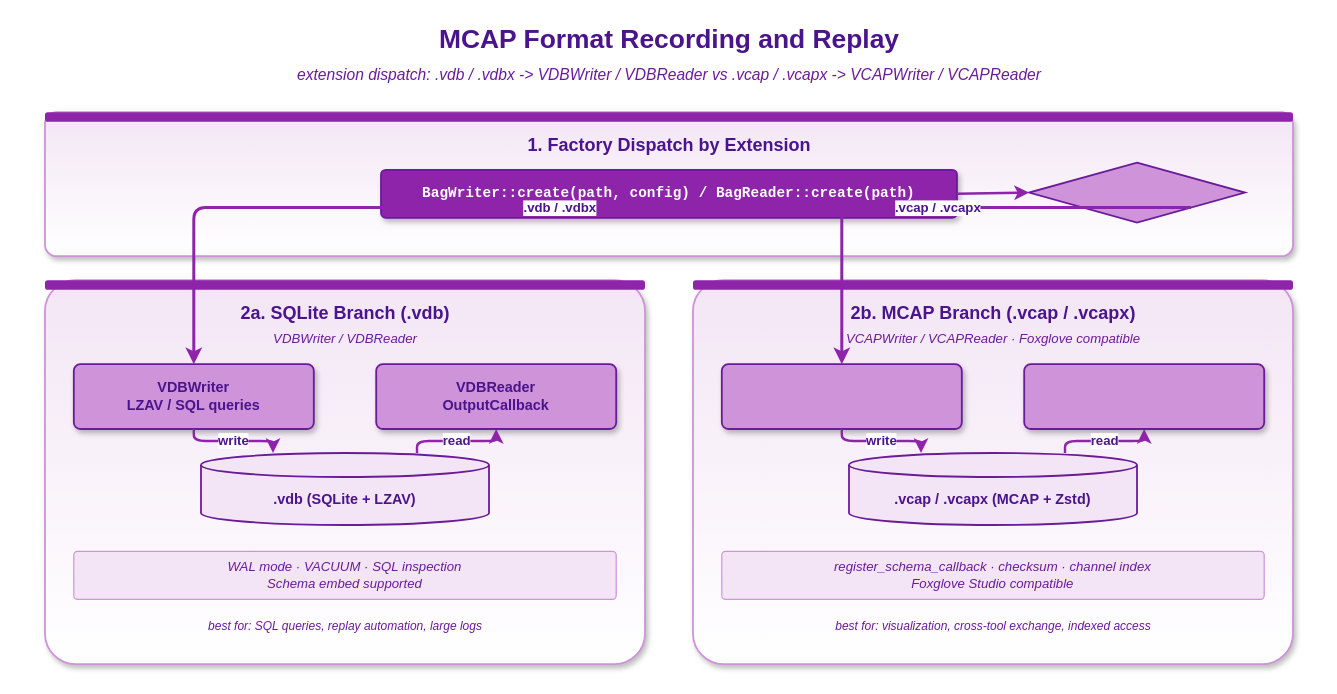
Image size: 1337x694. Some labels were removed from this diagram. The centre of each missing label's shape, as x and y in pixels:
path extension: point 1136,192
VCAPReader detect_schema, get_ser_type: point 1145,398
VCAPWriter Zstd / channels / schemas: point 842,398
